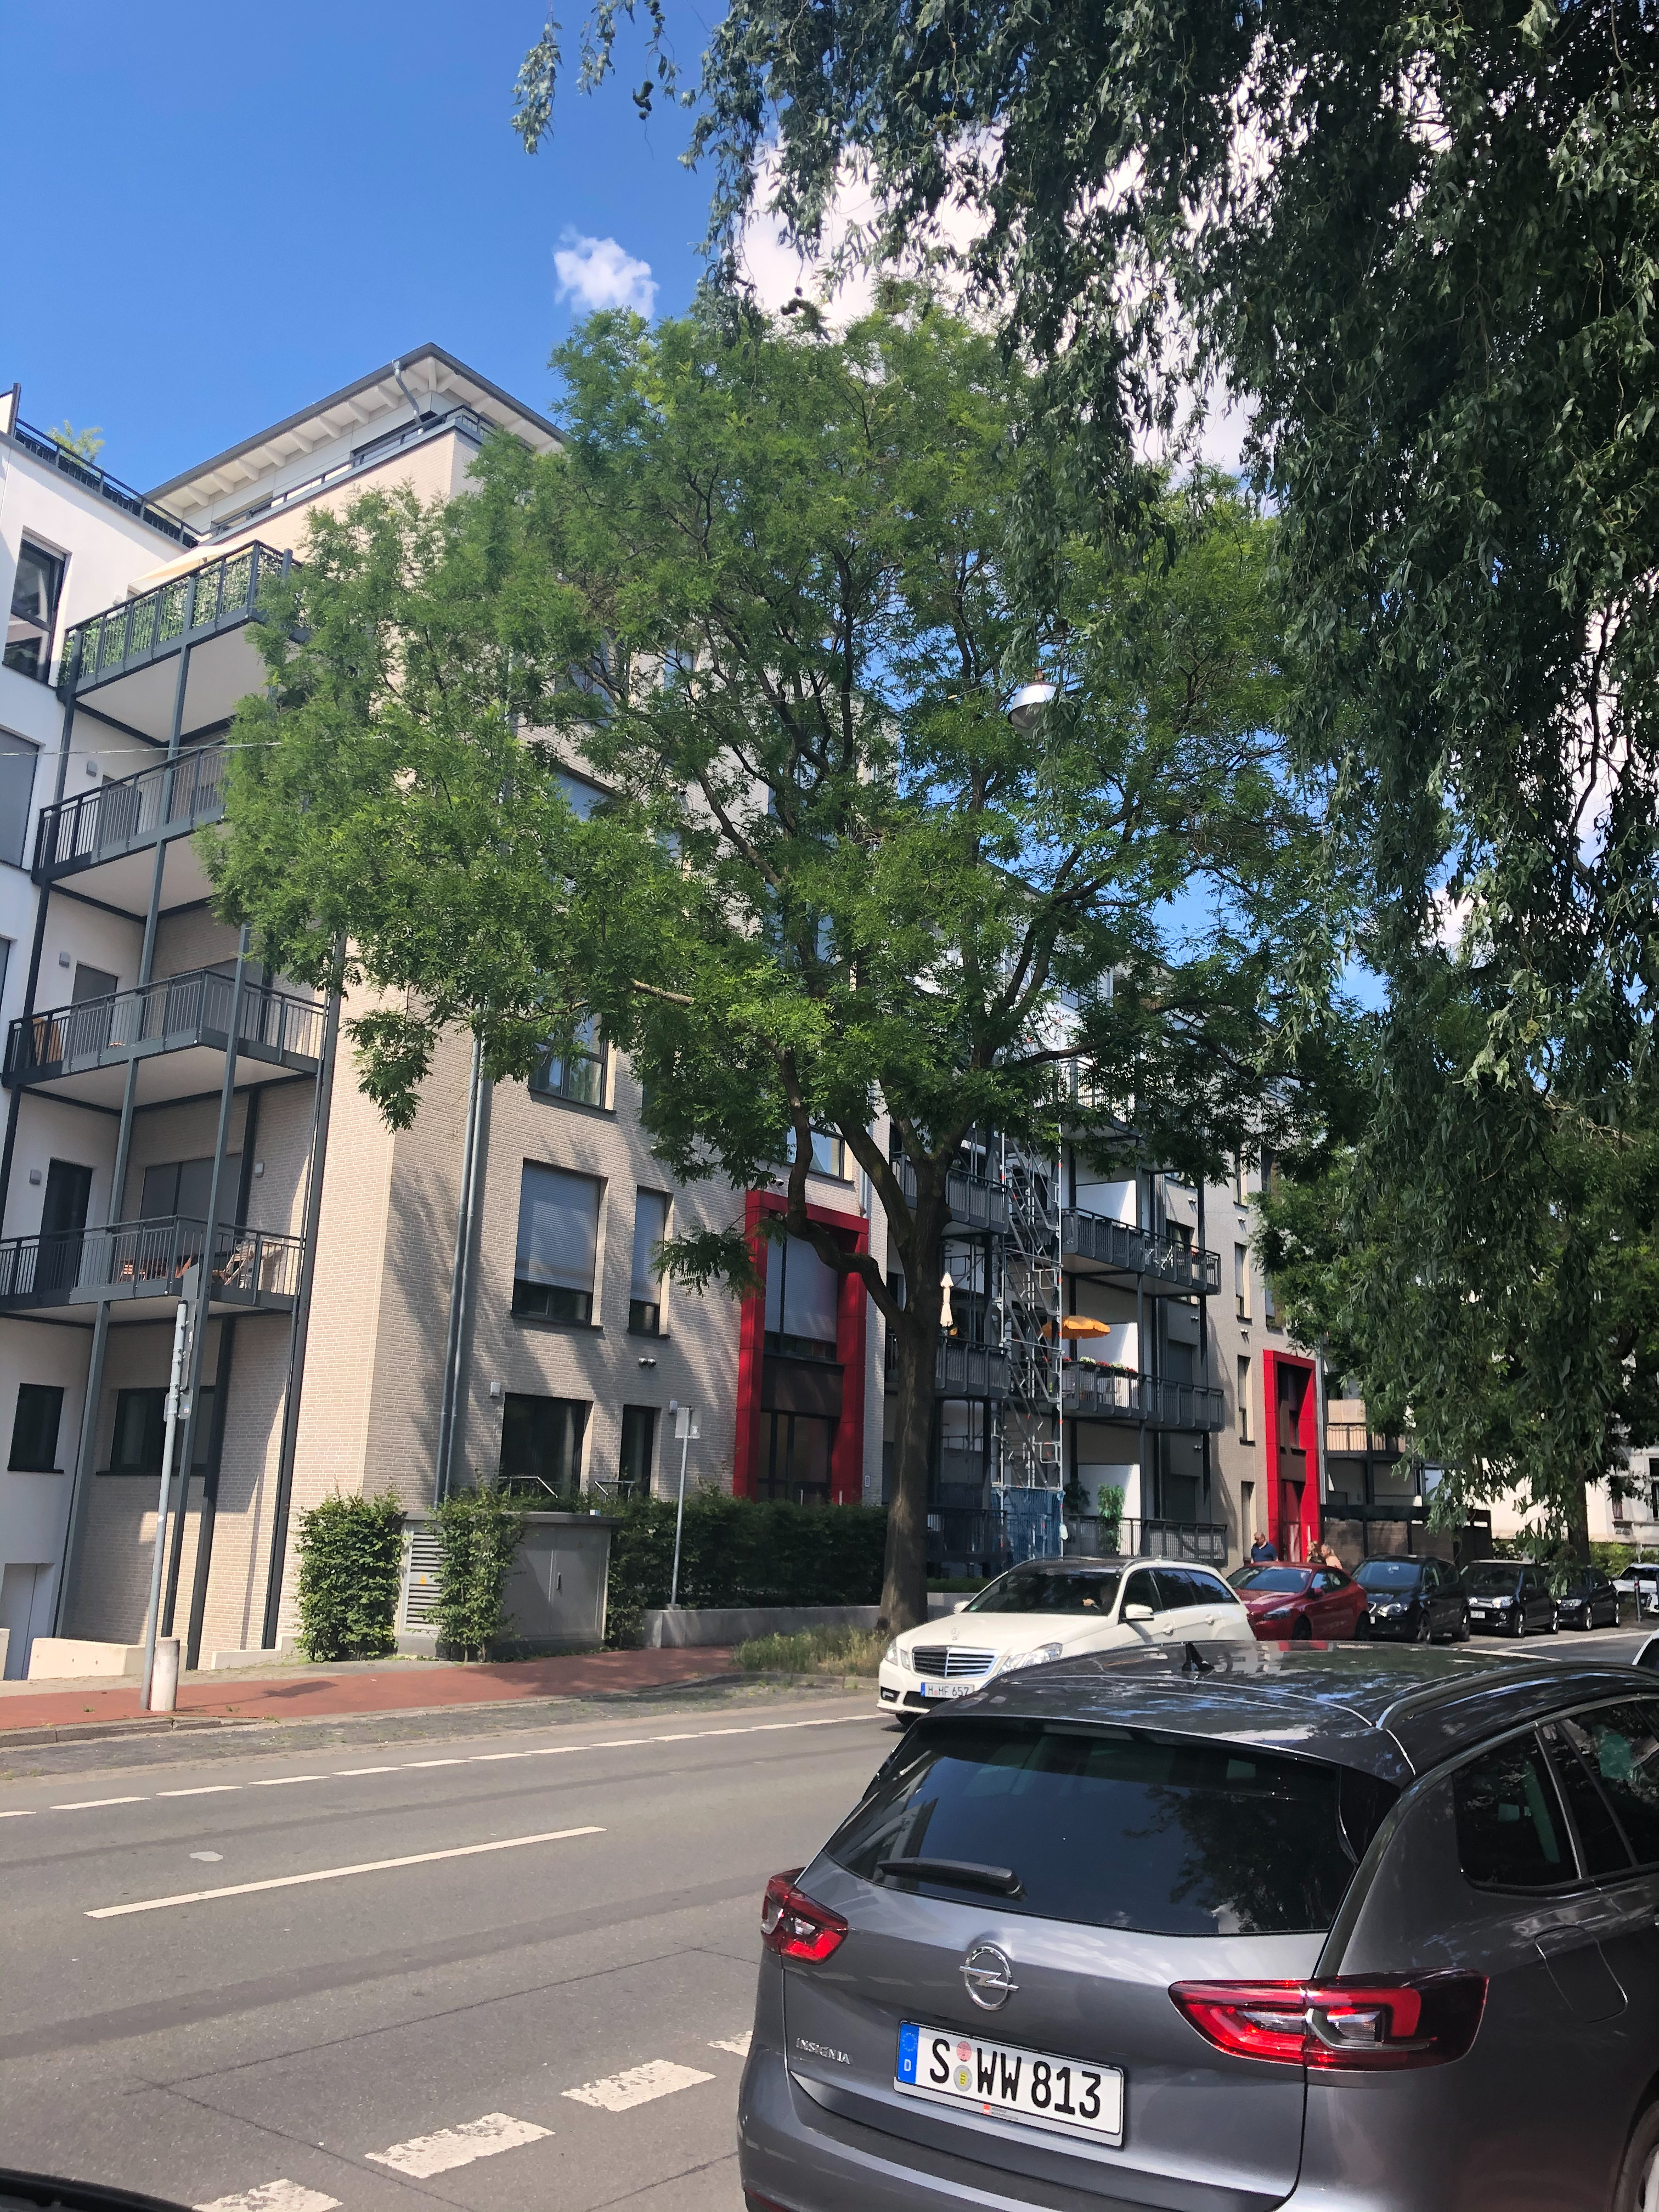tree: (509, 0, 1659, 1538), (190, 260, 1359, 1644), (1248, 920, 1659, 1564)
